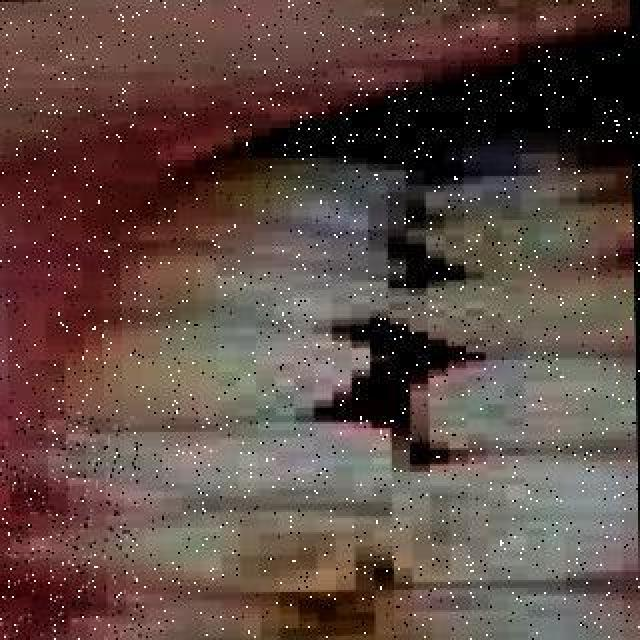maligned: (154, 574, 406, 640)
